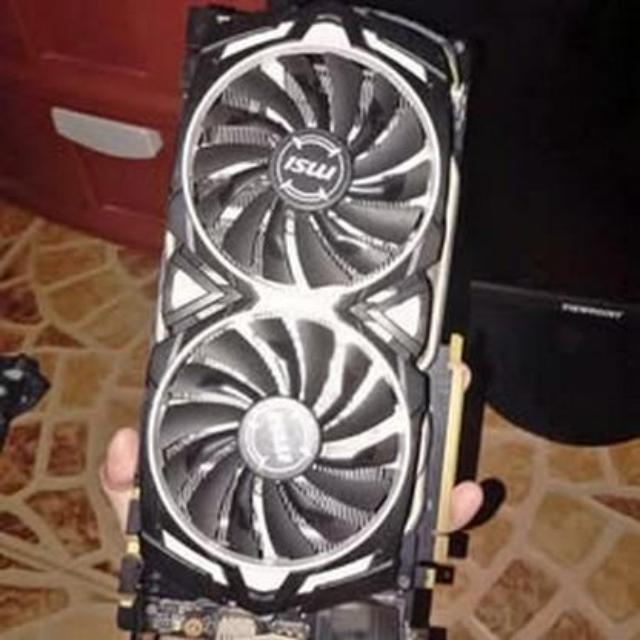GPU: (132, 0, 474, 640)
